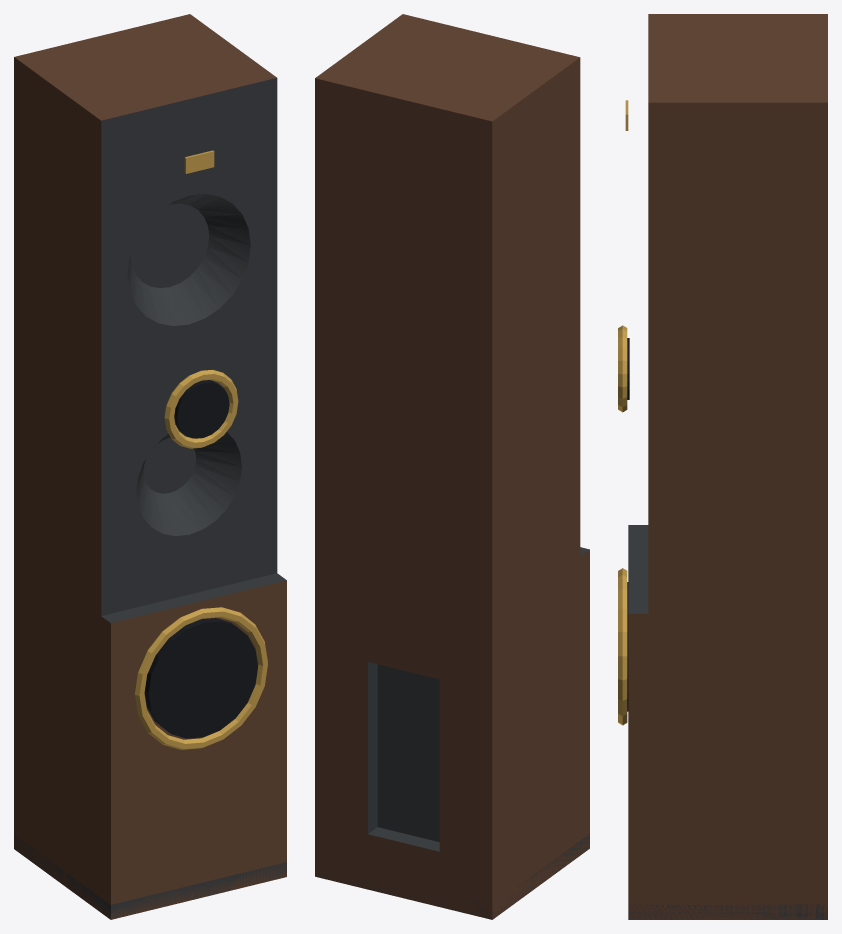
File: speaker.glb
The picture shows the model from 3 angles, left to right: view 1: azimuth 30°, elevation 25°; view 2: azimuth 150°, elevation 25°; view 3: azimuth 270°, elevation 25°; orthographic projection. The views are drawn at different scales.
Visible parts, largest first — view 1: speaker(Clone); view 2: speaker(Clone); view 3: speaker(Clone).
Part boxes in pixels (bbox=[...]): speaker(Clone): bbox=[14, 14, 286, 919]; speaker(Clone): bbox=[315, 14, 589, 919]; speaker(Clone): bbox=[618, 14, 827, 919].
Bounding box in the file's own units: 0.148 × 0.6364 × 0.148.
